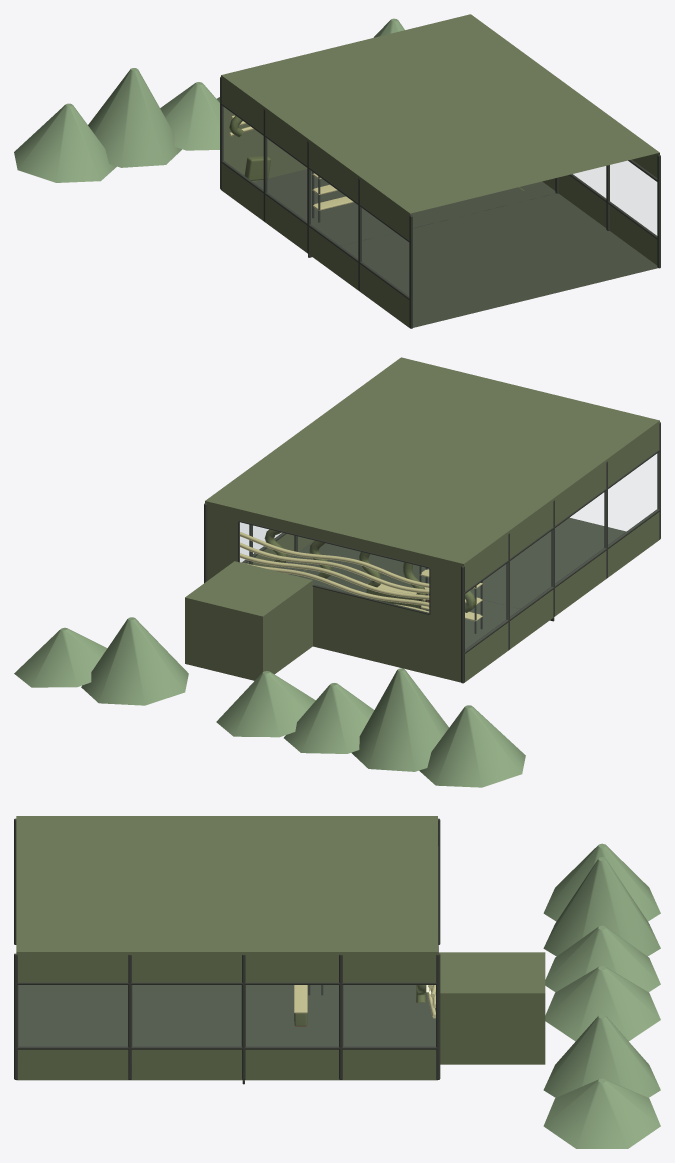
Rendered from depot.glb.
3 views of the same model, one above another, from view 1: azimuth 30°, elevation 25°; view 2: azimuth 150°, elevation 25°; view 3: azimuth 270°, elevation 25° (orthographic). The views are drawn at different scales.
Parts seen in each view (by area): view 1: Roof panels - Wall, Floor extension - Floor, Outside the glazing - Glass rim, Port wall - Wall, Floor - Floor, Port wall - Rib, Starboard wall - Wall, Rear bulkhead - Wall, Starboard wall - Rib, Signature architecture - Secondary, Goods shelf - Pale; view 2: Roof panels - Wall, Outside the glazing - Glass rim, Rear bulkhead - Wall, Port wall - Wall, Stockroom - Wall, Floor extension - Floor, Store lid - Wall, Signature architecture - Pale, Port wall - Rib, Floor - Floor, Signature architecture - Secondary, Rear bulkhead - Rib; view 3: Roof panels - Wall, Outside the glazing - Glass rim, Starboard wall - Wall, Floor extension - Floor, Floor - Floor, Stockroom - Wall, Starboard wall - Rib, Store lid - Wall, Port wall - Rib.
Part boxes in pixels (bbox=[...]): Roof panels - Wall: bbox=[221, 14, 659, 213]; Floor extension - Floor: bbox=[341, 193, 657, 327]; Outside the glazing - Glass rim: bbox=[14, 18, 404, 182]; Port wall - Wall: bbox=[221, 75, 410, 327]; Floor - Floor: bbox=[253, 169, 555, 245]; Port wall - Rib: bbox=[220, 77, 412, 328]; Starboard wall - Wall: bbox=[542, 153, 659, 265]; Rear bulkhead - Wall: bbox=[223, 107, 307, 181]; Starboard wall - Rib: bbox=[555, 154, 660, 268]; Signature architecture - Secondary: bbox=[229, 115, 270, 180]; Goods shelf - Pale: bbox=[312, 173, 353, 210]; Roof panels - Wall: bbox=[205, 357, 659, 563]; Outside the glazing - Glass rim: bbox=[14, 617, 525, 787]; Rear bulkhead - Wall: bbox=[205, 501, 463, 682]; Port wall - Wall: bbox=[464, 421, 659, 682]; Stockroom - Wall: bbox=[185, 580, 312, 680]; Floor extension - Floor: bbox=[298, 517, 626, 608]; Store lid - Wall: bbox=[185, 561, 312, 616]; Signature architecture - Pale: bbox=[240, 532, 429, 612]; Port wall - Rib: bbox=[461, 422, 660, 683]; Floor - Floor: bbox=[277, 555, 519, 649]; Signature architecture - Secondary: bbox=[264, 529, 476, 612]; Rear bulkhead - Rib: bbox=[238, 520, 430, 614]; Roof panels - Wall: bbox=[16, 816, 437, 951]; Outside the glazing - Glass rim: bbox=[543, 843, 660, 1148]; Starboard wall - Wall: bbox=[16, 952, 437, 1080]; Floor extension - Floor: bbox=[18, 985, 241, 1046]; Floor - Floor: bbox=[246, 985, 435, 1046]; Stockroom - Wall: bbox=[440, 993, 545, 1064]; Starboard wall - Rib: bbox=[14, 953, 440, 1079]; Store lid - Wall: bbox=[438, 952, 545, 993]; Port wall - Rib: bbox=[14, 818, 440, 944].
Bounding box in the file's own units: 36.79 × 9.43 × 38.64.
